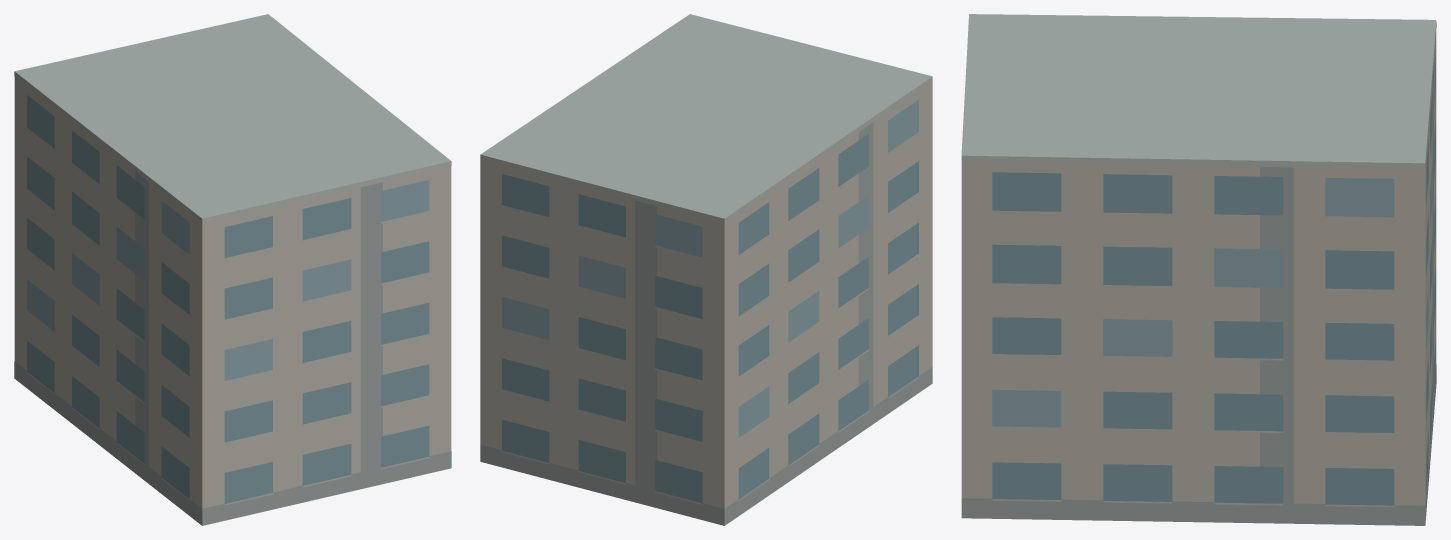
Rendered from survey-upis-32564800.glb.
The picture shows the model from 3 angles, left to right: view 1: azimuth 30°, elevation 25°; view 2: azimuth 150°, elevation 25°; view 3: azimuth 270°, elevation 25°; orthographic projection. The views are drawn at different scales.
Parts seen in each view (by area): view 1: survey-upis-32564800.tmp; view 2: survey-upis-32564800.tmp; view 3: survey-upis-32564800.tmp.
Boxes of the visible parts, x1,y1,x2,y2 form: survey-upis-32564800.tmp: [14, 14, 451, 525]; survey-upis-32564800.tmp: [480, 14, 932, 525]; survey-upis-32564800.tmp: [961, 14, 1436, 525].
Size of the model in its own units: 12.55 by 14.2 by 16.87.
